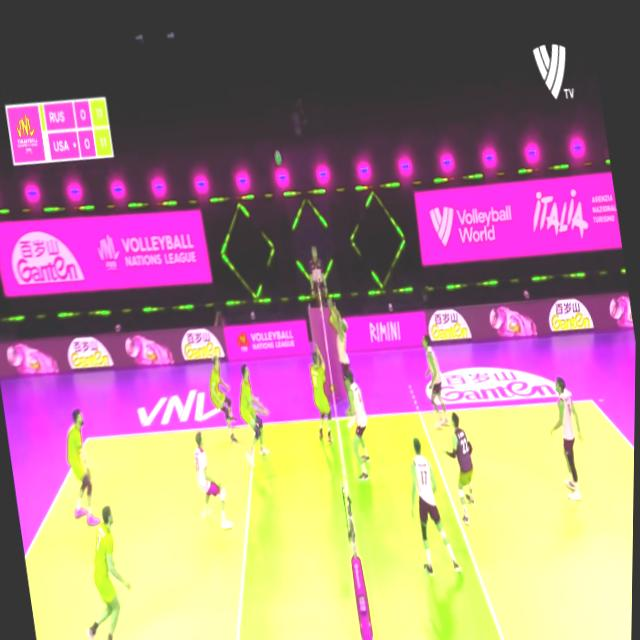player: (72, 496, 141, 640), (400, 423, 466, 573), (539, 362, 597, 500), (60, 403, 110, 529), (326, 285, 367, 430), (439, 399, 484, 522), (190, 427, 239, 534), (236, 353, 278, 458), (343, 358, 378, 476), (418, 323, 456, 430), (303, 330, 338, 445), (207, 347, 243, 441)
